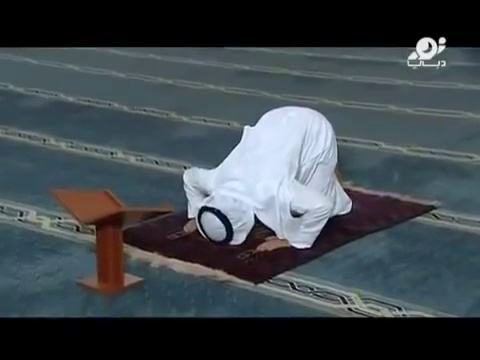sujud: (181, 105, 352, 255)
